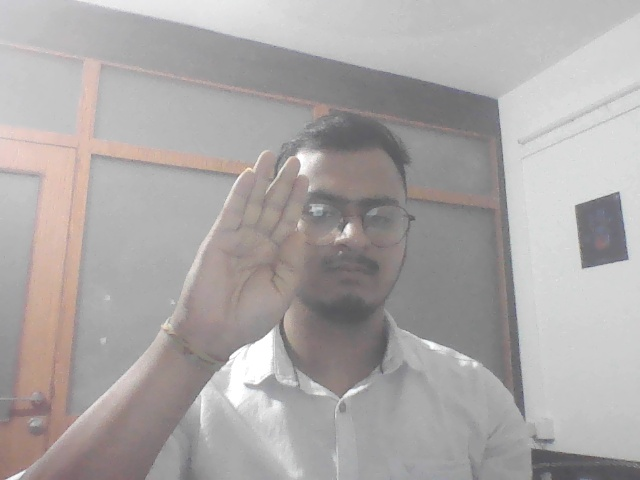Hello: (169, 144, 313, 344)
